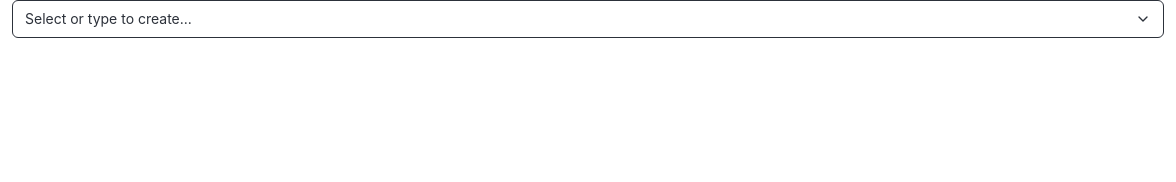
Test: CreatableSelect › displays existing options when dropdown opens
Click the element showing "Select or type to create...": [108, 18] box [25, 10, 192, 27]
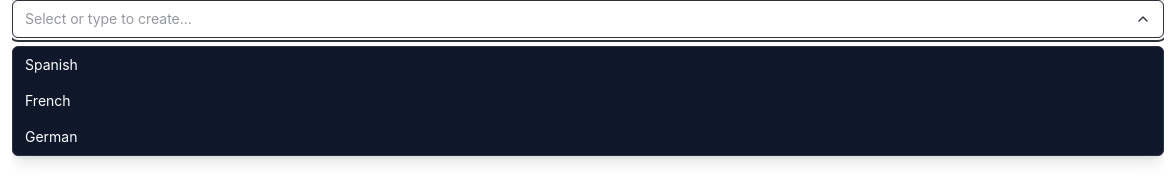
expect the button "Spanish" is shown: met, box [13, 47, 1163, 83]
expect the button "French" is shown: met, box [13, 83, 1163, 119]
expect the button "German" is shown: met, box [13, 119, 1163, 155]
